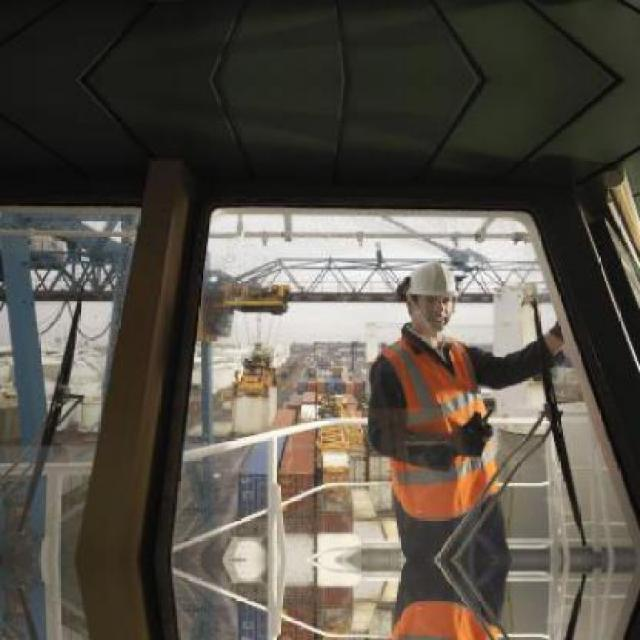Reflective-Jacket: (365, 331, 500, 535)
Safety-Helmet: (388, 251, 470, 309)
